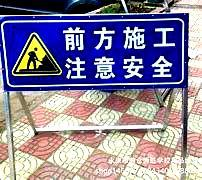sign: (1, 18, 184, 84)
